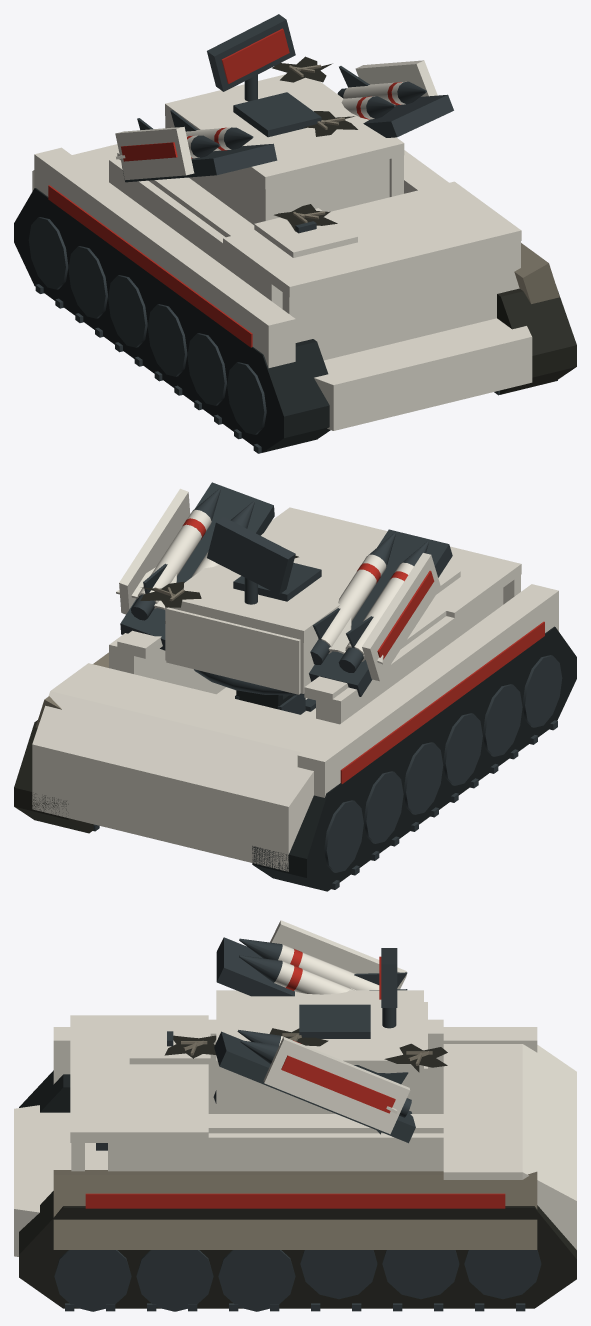
3 renders of one model, top to bottom at view 1: azimuth 30°, elevation 25°; view 2: azimuth 150°, elevation 25°; view 3: azimuth 270°, elevation 25°, orthographic. The views are drawn at different scales.
Parts seen in each view (by area): view 1: aa-tank-damaged-fleet-armor, turret-fleet-armor, aa-tank-damaged-fleet-rubber, aa-tank-damaged-fleet-machine, aa-tank-damaged-fleet-damage-charred, aa-tank-damaged-fleet-red, turret-fleet-machine, launcher-left-fleet-armor, aa-tank-damaged-fleet-damage-metal, radar-fleet-machine, launcher-right-fleet-machine, launcher-left-fleet-machine (+7 smaller); view 2: aa-tank-damaged-fleet-armor, turret-fleet-armor, aa-tank-damaged-fleet-rubber, aa-tank-damaged-fleet-machine, radar-fleet-machine, launcher-right-fleet-machine, launcher-left-fleet-machine, aa-tank-damaged-fleet-red, launcher-left-fleet-armor, aa-tank-damaged-fleet-damage-charred, launcher-right-fleet-armor, loaded-missile--1-0.2-fleet-armor (+9 smaller); view 3: aa-tank-damaged-fleet-armor, aa-tank-damaged-fleet-damage-metal, aa-tank-damaged-fleet-machine, aa-tank-damaged-fleet-damage-charred, turret-fleet-armor, aa-tank-damaged-fleet-red, launcher-right-fleet-armor, turret-fleet-machine, launcher-left-fleet-armor, launcher-right-fleet-machine, launcher-left-fleet-machine, launcher-right-fleet-red (+7 smaller).
Part boxes in pixels (<box>): aa-tank-damaged-fleet-armor: <box>32,144,532,430</box>; turret-fleet-armor: <box>165,74,404,224</box>; aa-tank-damaged-fleet-rubber: <box>14,188,330,452</box>; aa-tank-damaged-fleet-machine: <box>28,217,557,453</box>; aa-tank-damaged-fleet-damage-charred: <box>272,56,576,394</box>; aa-tank-damaged-fleet-red: <box>48,185,252,347</box>; turret-fleet-machine: <box>233,74,321,137</box>; launcher-left-fleet-armor: <box>115,126,194,180</box>; aa-tank-damaged-fleet-damage-metal: <box>289,64,559,303</box>; radar-fleet-machine: <box>207,14,295,91</box>; launcher-right-fleet-machine: <box>363,94,453,137</box>; launcher-left-fleet-machine: <box>122,143,277,182</box>; aa-tank-damaged-fleet-armor: <box>32,507,558,871</box>; turret-fleet-armor: <box>165,524,373,694</box>; aa-tank-damaged-fleet-rubber: <box>252,626,576,891</box>; aa-tank-damaged-fleet-machine: <box>93,655,562,889</box>; radar-fleet-machine: <box>207,517,295,594</box>; launcher-right-fleet-machine: <box>120,482,274,650</box>; launcher-left-fleet-machine: <box>309,529,452,696</box>; aa-tank-damaged-fleet-red: <box>340,621,544,783</box>; launcher-left-fleet-armor: <box>362,553,440,681</box>; aa-tank-damaged-fleet-damage-charred: <box>14,555,298,833</box>; launcher-right-fleet-armor: <box>119,488,190,614</box>; loaded-missile--1-0.2-fleet-armor: <box>318,554,386,653</box>; aa-tank-damaged-fleet-armor: <box>14,1015,576,1256</box>; aa-tank-damaged-fleet-damage-metal: <box>53,1033,537,1249</box>; aa-tank-damaged-fleet-machine: <box>54,1031,541,1311</box>; aa-tank-damaged-fleet-damage-charred: <box>19,1028,576,1308</box>; turret-fleet-armor: <box>216,990,427,1113</box>; aa-tank-damaged-fleet-red: <box>85,1193,505,1208</box>; launcher-right-fleet-armor: <box>263,1037,410,1134</box>; turret-fleet-machine: <box>299,1004,396,1038</box>; launcher-left-fleet-armor: <box>270,920,406,989</box>; launcher-right-fleet-machine: <box>214,1031,415,1143</box>; launcher-left-fleet-machine: <box>216,937,294,996</box>; launcher-right-fleet-red: <box>281,1055,395,1113</box>.
Size of the model in its own units: 21.7 by 19.02 by 33.68.
